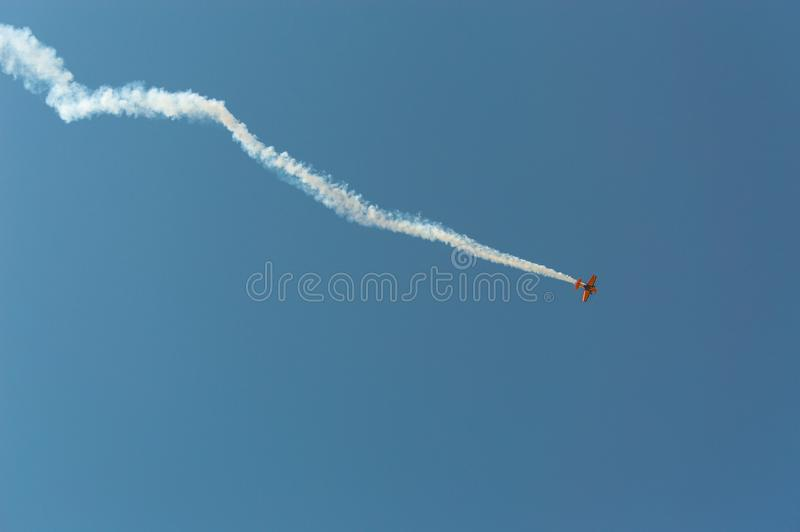plane: (569, 270, 601, 304)
